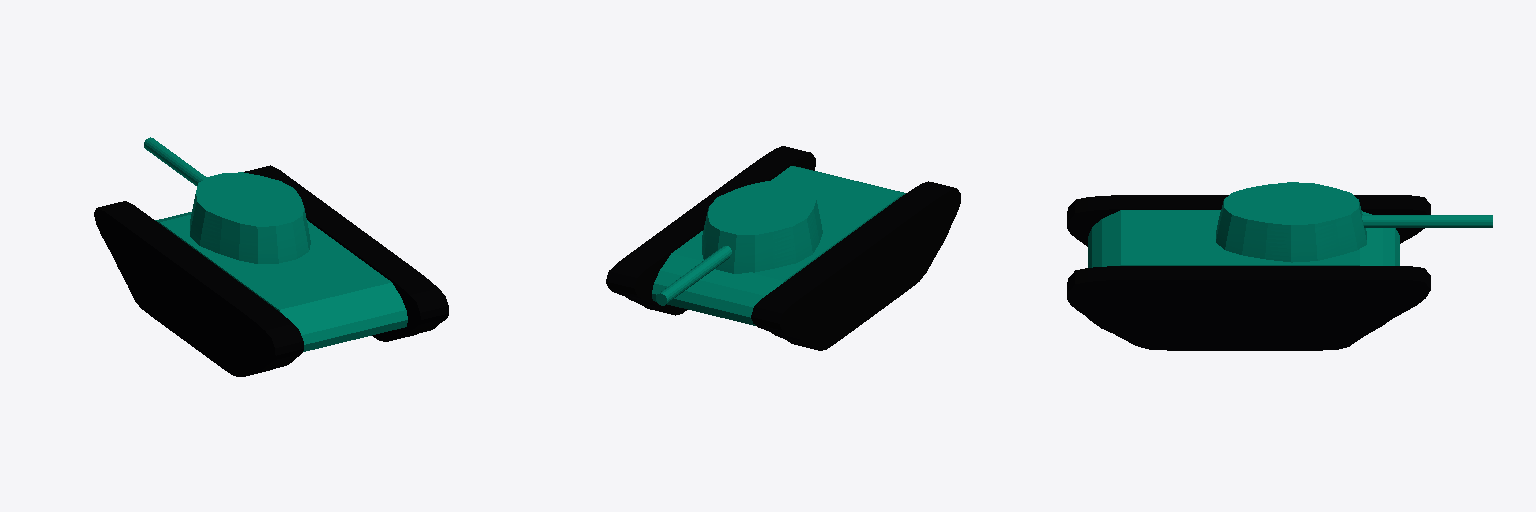
The model's file is Tank.obj.
3 views of the same model, side by side, from view 1: azimuth 30°, elevation 25°; view 2: azimuth 150°, elevation 25°; view 3: azimuth 270°, elevation 25° (orthographic).
Parts seen in each view (by area): view 1: Box003, Box001, Cylinder001, Box002, Cylinder002; view 2: Box003, Box001, Cylinder001, Box002, Cylinder002; view 3: Box002, Cylinder001, Box001, Box003, Cylinder002.
Part boxes in pixels (x1,y1,x2,y2): Box003: (94,201,303,376); Box001: (155,212,407,351); Cylinder001: (190,172,310,263); Box002: (244,165,448,341); Cylinder002: (144,137,206,185); Box003: (751,181,960,350); Box001: (652,166,905,325); Cylinder001: (702,181,822,273); Box002: (606,146,815,315); Cylinder002: (656,246,731,305); Box002: (1067,266,1430,350); Cylinder001: (1216,182,1366,262); Box001: (1088,210,1399,267); Box003: (1067,195,1430,246); Cylinder002: (1362,215,1492,227).
Bounding box in the file's own units: 1.29 × 0.7392 × 2.73.